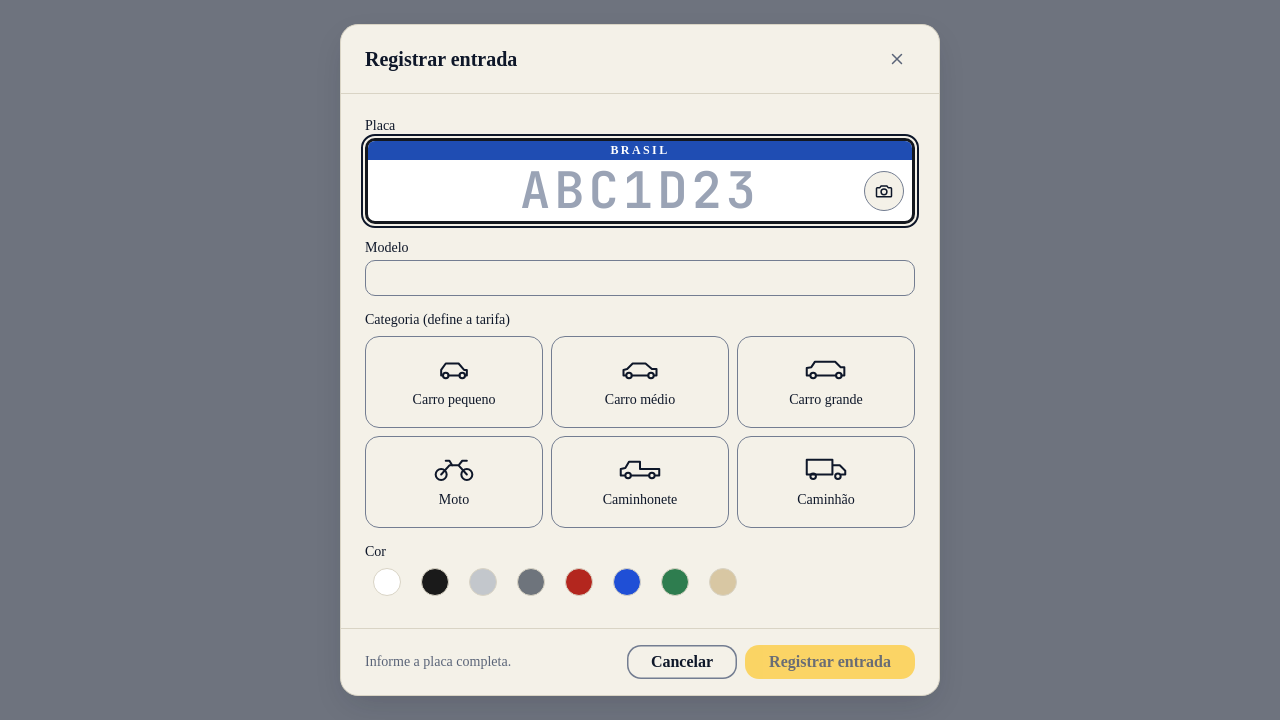
it: EntradaVeiculoModal › aplica a cor do cadastro só quando ela existe na lista
Type "abc1d23" into the field labelled "Placa" at x=640, y=191, box [368,160,912,221]
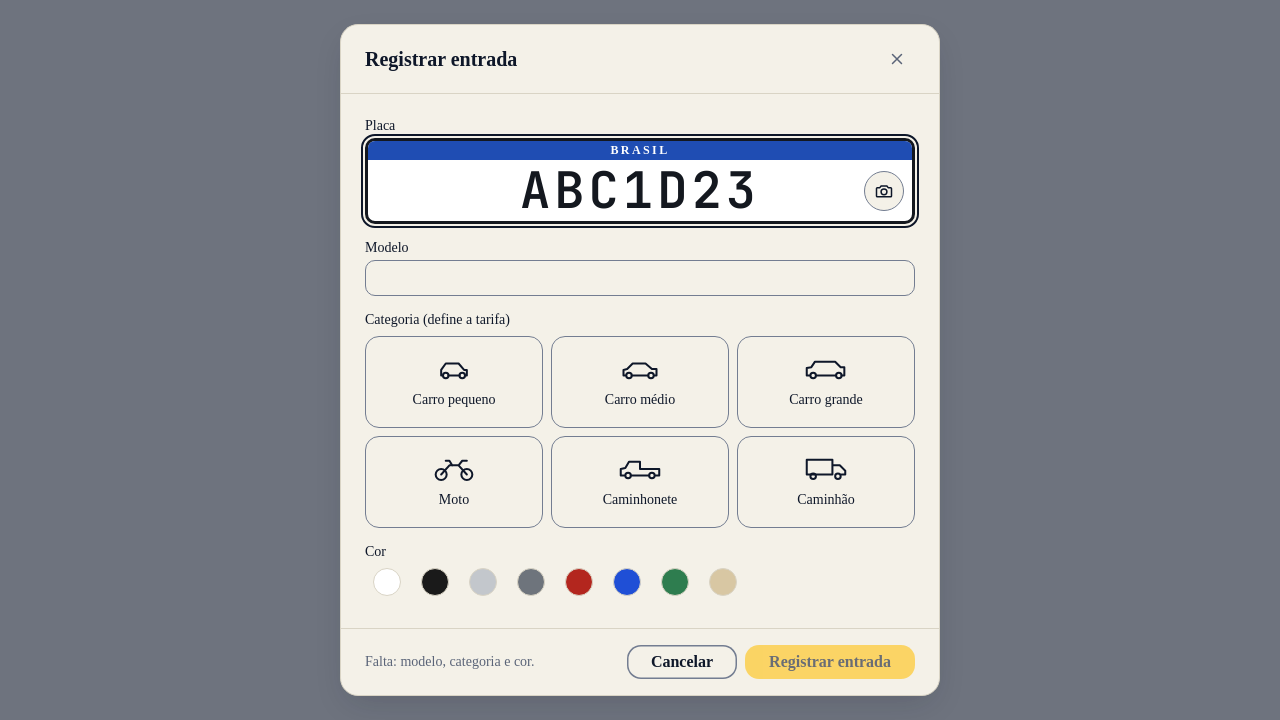
Press Tab
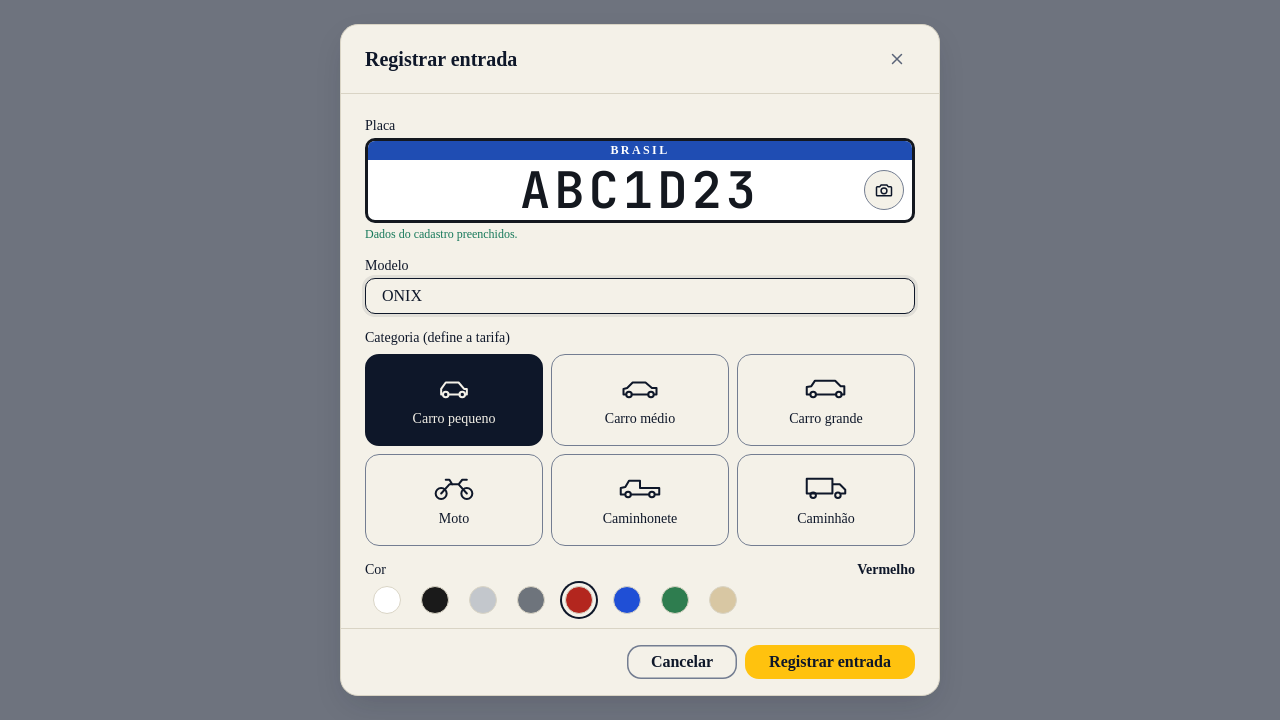
expect the radio button named "Vermelho" is checked: met, box [565,586,593,614]
